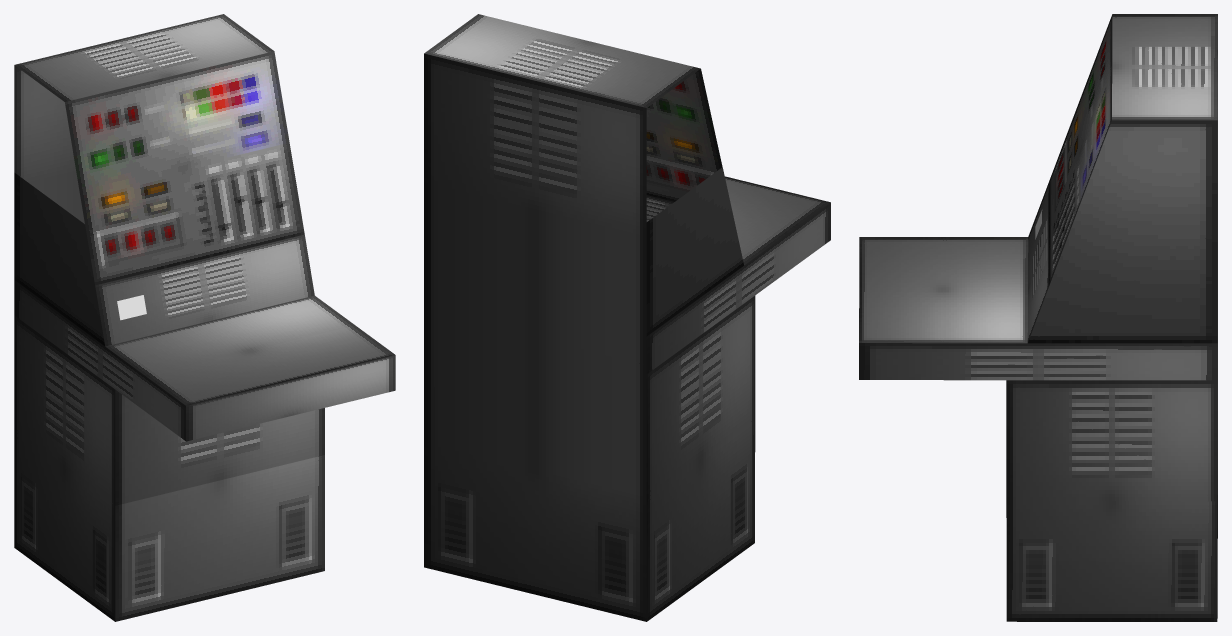
File: primary_194.glb
The picture shows the model from 3 angles, left to right: view 1: azimuth 30°, elevation 25°; view 2: azimuth 150°, elevation 25°; view 3: azimuth 270°, elevation 25°; orthographic projection. The views are drawn at different scales.
Visible parts, largest first — view 1: Object; view 2: Object; view 3: Object.
Boxes of the visible parts, <box> form: Object: <box>14,14,395,621</box>; Object: <box>424,14,830,621</box>; Object: <box>859,14,1217,621</box>.
Bounding box in the file's own units: 0.8103 × 1.78 × 1.15.
21 materials, 21 textured.
